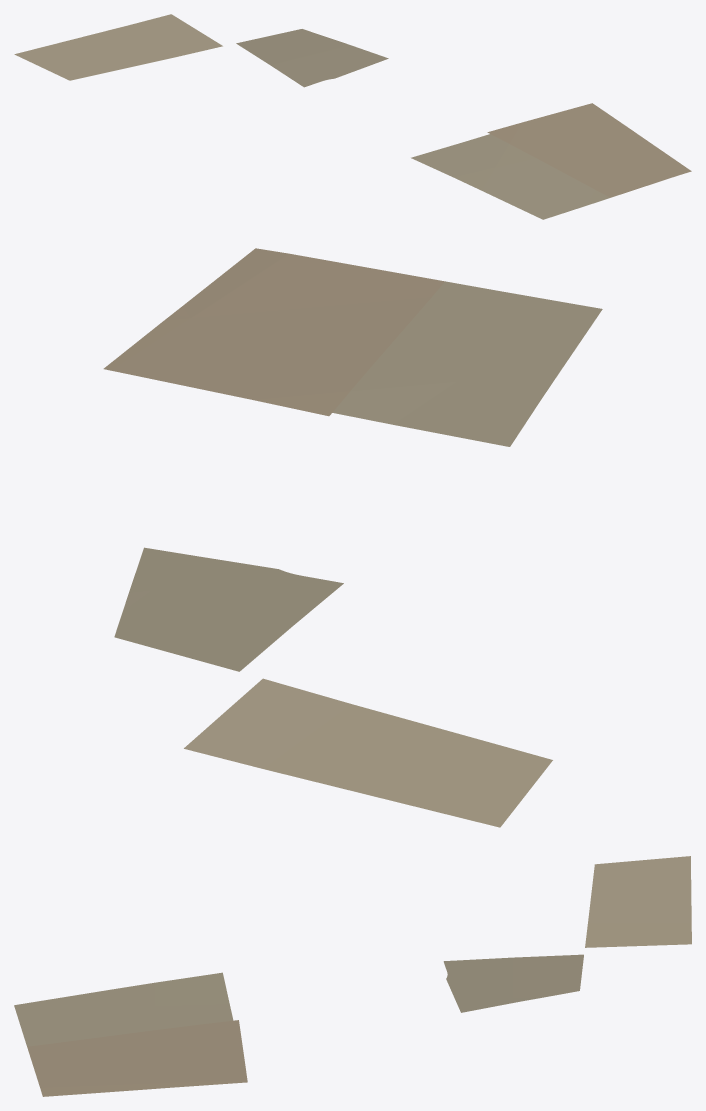
File: farm_23_13_soil.glb
3 views of the same model, one above another, from view 1: azimuth 30°, elevation 25°; view 2: azimuth 150°, elevation 25°; view 3: azimuth 270°, elevation 25° (orthographic). The views are drawn at different scales.
Parts seen in each view (by area): view 1: geometry_0; view 2: geometry_0; view 3: geometry_0.
Boxes of the visible parts, <box> form: geometry_0: <box>14,14,691,219</box>; geometry_0: <box>103,248,602,827</box>; geometry_0: <box>14,856,691,1096</box>.
Size of the model in its own units: 241 by 7.52 by 303.
